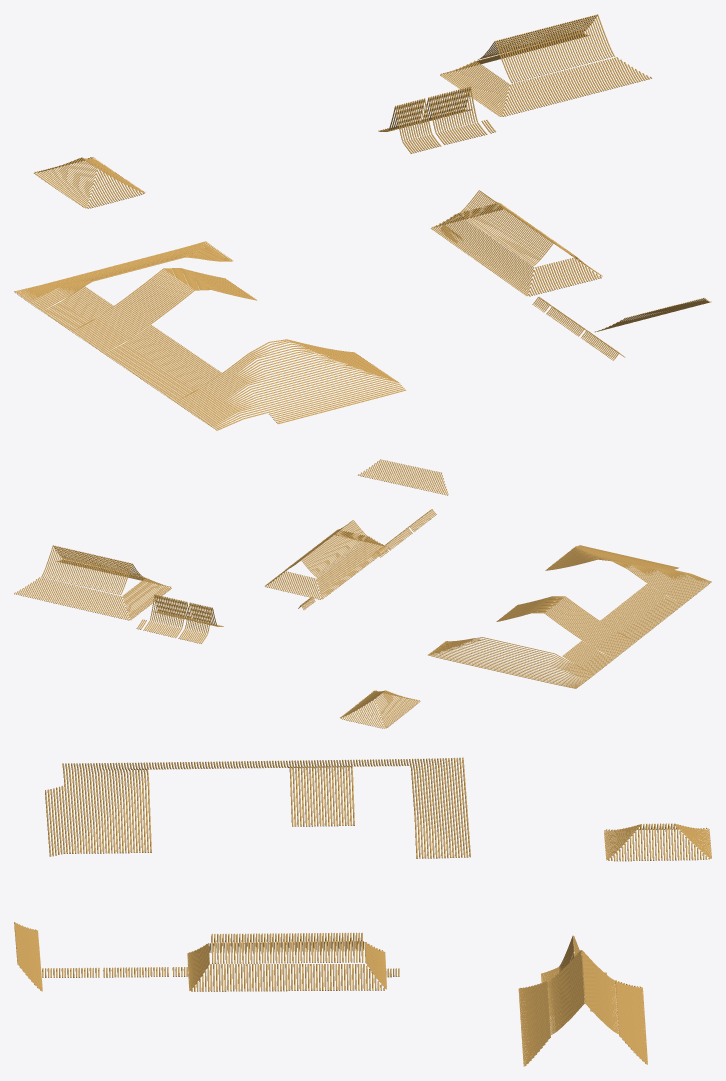
File: roof-tiles-2-4.glb
The picture shows the model from 3 angles, top to bottom: view 1: azimuth 30°, elevation 25°; view 2: azimuth 150°, elevation 25°; view 3: azimuth 270°, elevation 25°; orthographic projection. The views are drawn at different scales.
Visible parts, largest first — view 1: roof-tiles-2-4_micro_Roof_Glazed_Ochre; view 2: roof-tiles-2-4_micro_Roof_Glazed_Ochre; view 3: roof-tiles-2-4_micro_Roof_Glazed_Ochre.
Boxes of the visible parts, x1=… form: roof-tiles-2-4_micro_Roof_Glazed_Ochre: x1=14, y1=14, x2=711, y2=430; roof-tiles-2-4_micro_Roof_Glazed_Ochre: x1=14, y1=459, x2=711, y2=728; roof-tiles-2-4_micro_Roof_Glazed_Ochre: x1=14, y1=757, x2=711, y2=1066.
Size of the model in its own units: 1.14 by 0.1504 by 0.9931.
